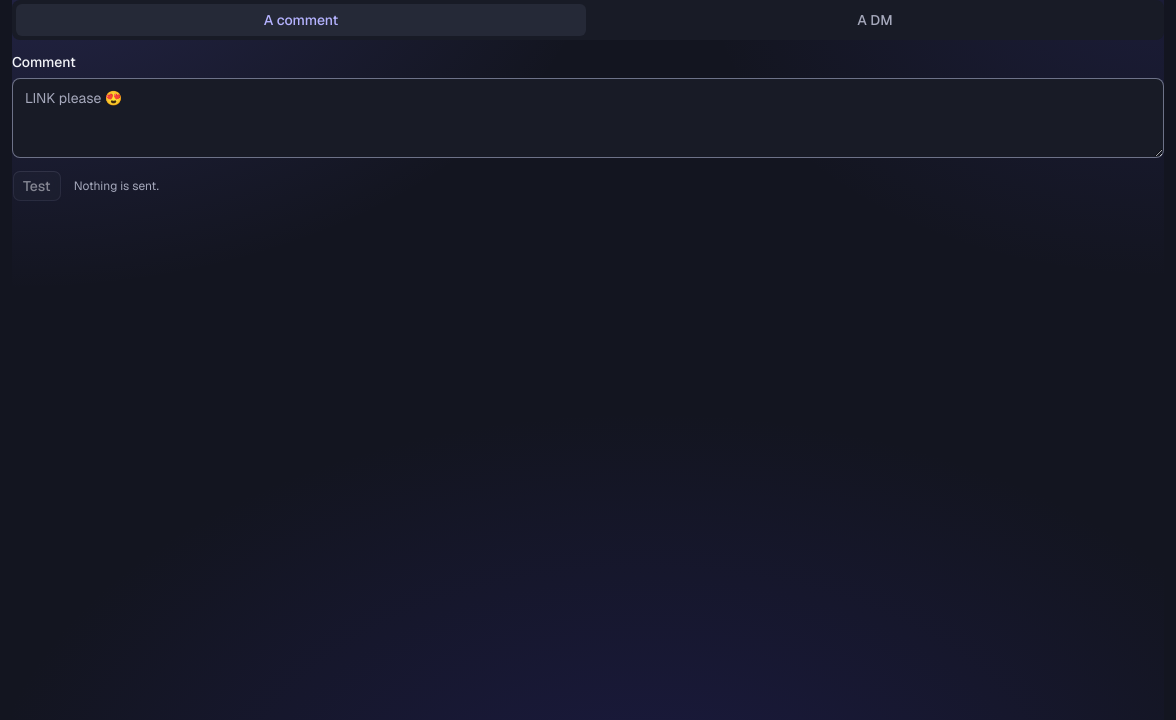
Test: MatchTester (UX-SCR-03 Test) › match: the keyword, this automation wins, and the rendered messages
Type "LINK please" into the text box labelled "Comment". click: (588, 118)
box: [12,78,1164,158]
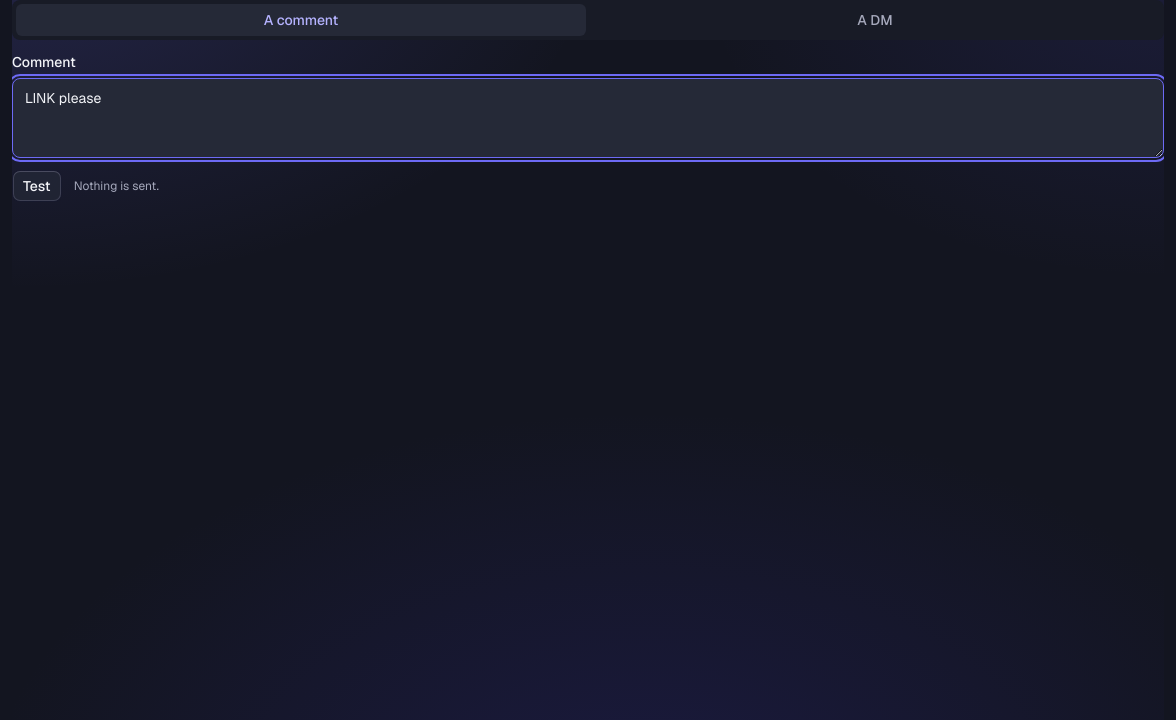
Click the button "Test". click: (37, 186)
box: [12,170,62,202]
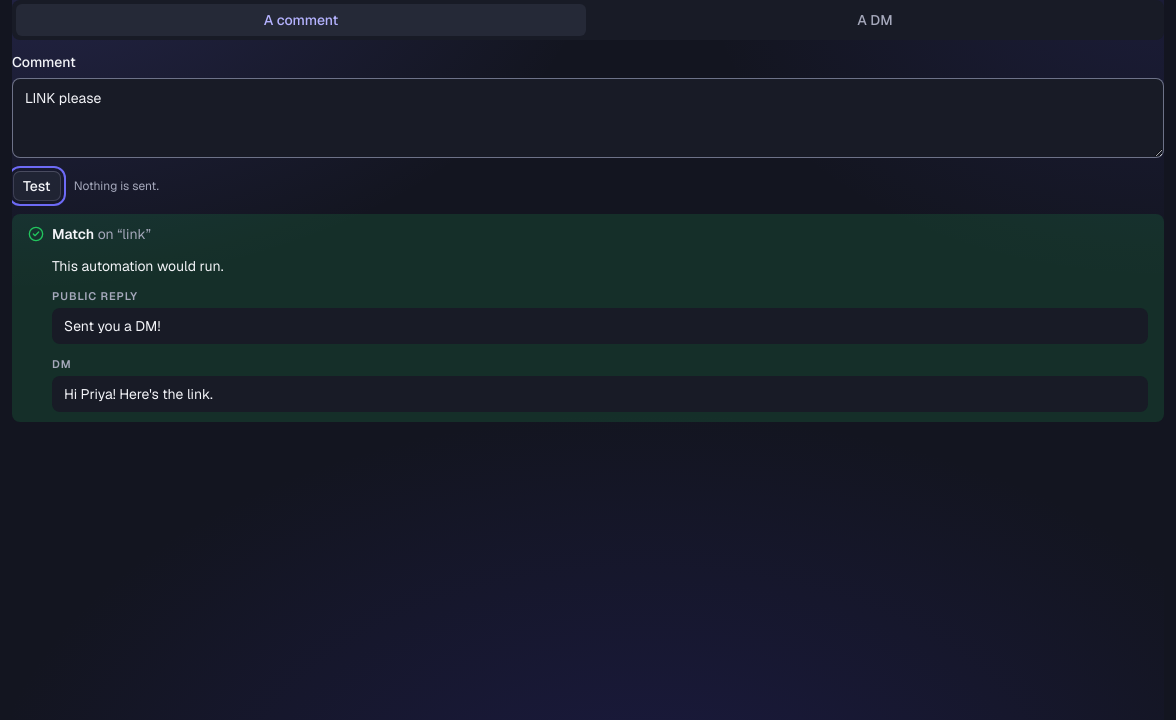
Check: the text "This automation would run." is shown, box [52,257,224,275]
Check: the text "Hi Priya! Here's the link." is shown, box [52,376,1148,412]
Check: the text "Sent you a DM!" is shown, box [52,308,1148,344]
